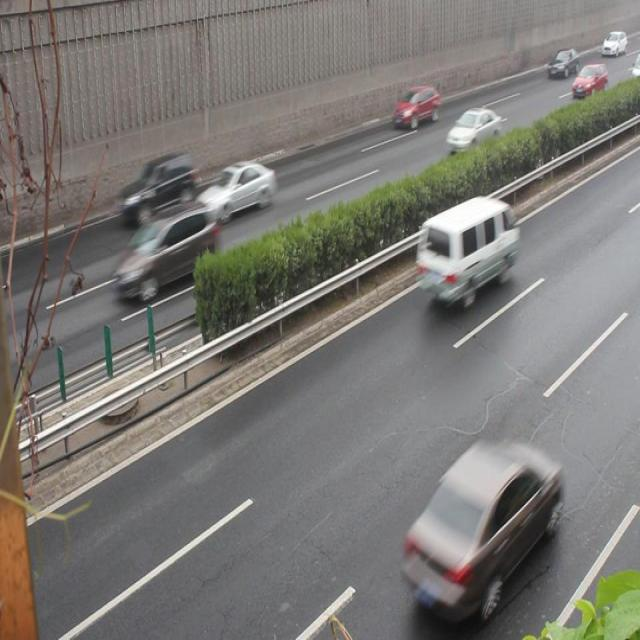car: (402, 438, 558, 605), (111, 202, 218, 301), (120, 152, 197, 226), (194, 158, 274, 222), (444, 106, 500, 156), (391, 84, 438, 130)
truck: (416, 196, 518, 306)
